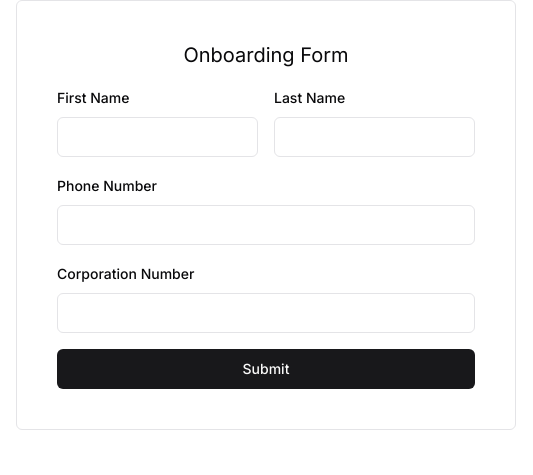
Scenario: OnboardingForm › displays an error message when the corporation number is invalidated by backend
Type "First" into the field labelled "First Name".
click(158, 137); type("First")  # box [57,117,258,157]
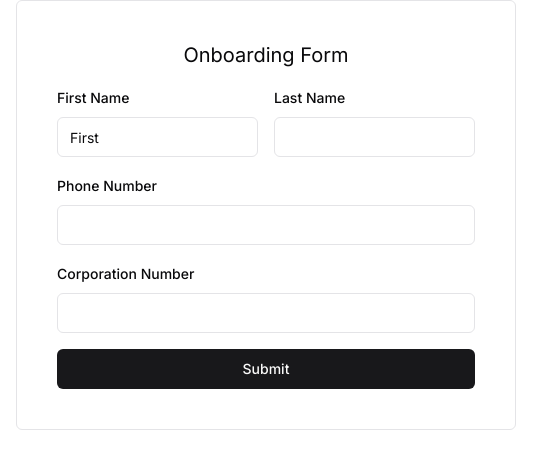
Type "Last" into the field labelled "Last Name".
click(374, 137); type("Last")  # box [274,117,475,157]
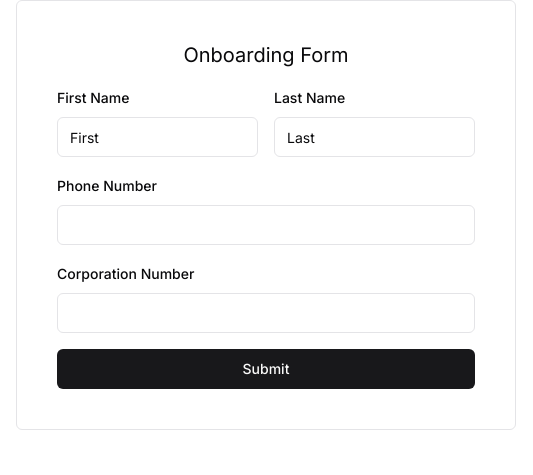
Type "+13061716382" into the field labelled "Phone Number".
click(266, 225); type("+13061716382")  # box [57,205,475,245]
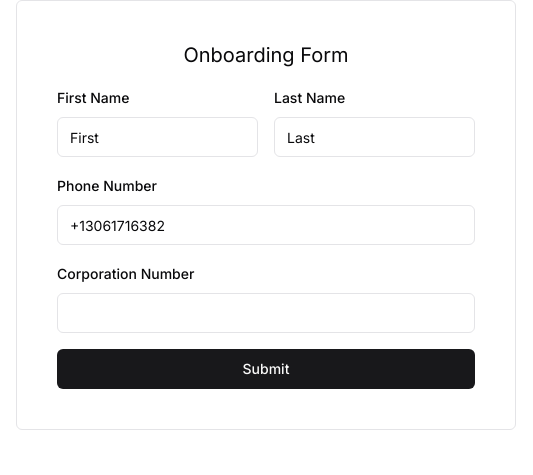
Type "123456788" into the field labelled "Corporation Number".
click(266, 313); type("123456788")  # box [57,293,475,333]
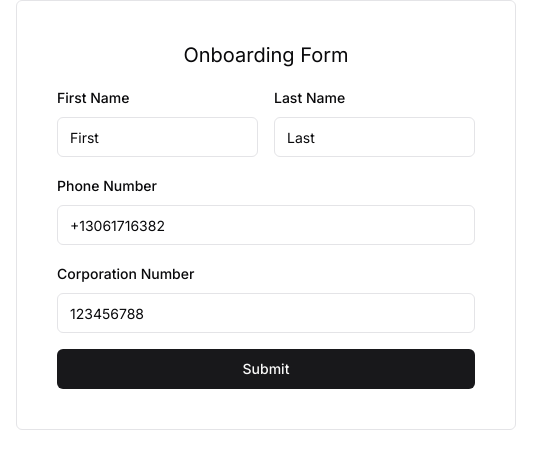
Click the button "Submit".
click(266, 369)  # box [57,349,475,389]
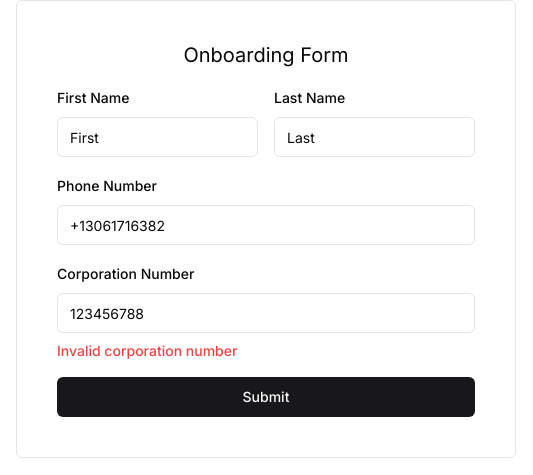
expect the text "Invalid corporation number" is shown: met, box [57,342,237,359]
